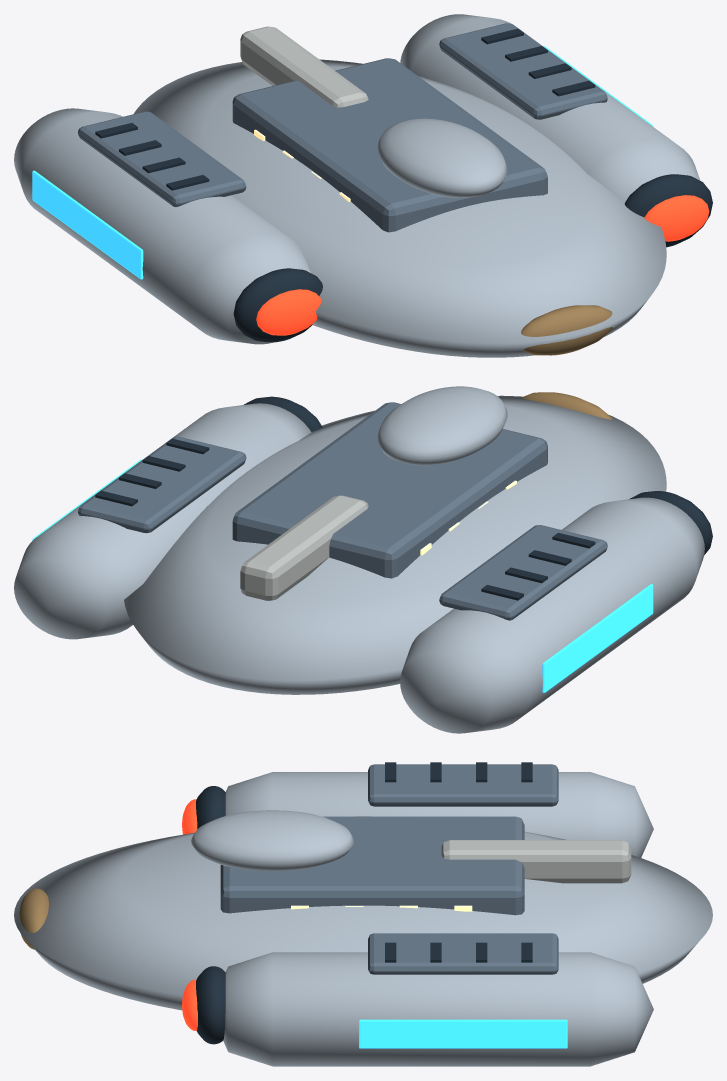
Rendered from Escort_LOD0.glb.
3 renders of one model, top to bottom at view 1: azimuth 30°, elevation 25°; view 2: azimuth 150°, elevation 25°; view 3: azimuth 270°, elevation 25°, orthographic. The views are drawn at different scales.
Visible parts, largest first — view 1: Escort_LOD0; view 2: Escort_LOD0; view 3: Escort_LOD0.
Part boxes in pixels (x1,y1,x2,y2): Escort_LOD0: (14,14,712,357); Escort_LOD0: (14,386,712,733); Escort_LOD0: (14,762,712,1066).
Bounding box in the file's own units: 138 × 39.74 × 170.
